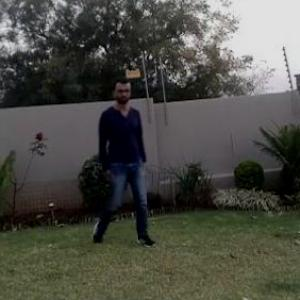follow: (95, 79, 150, 240)
